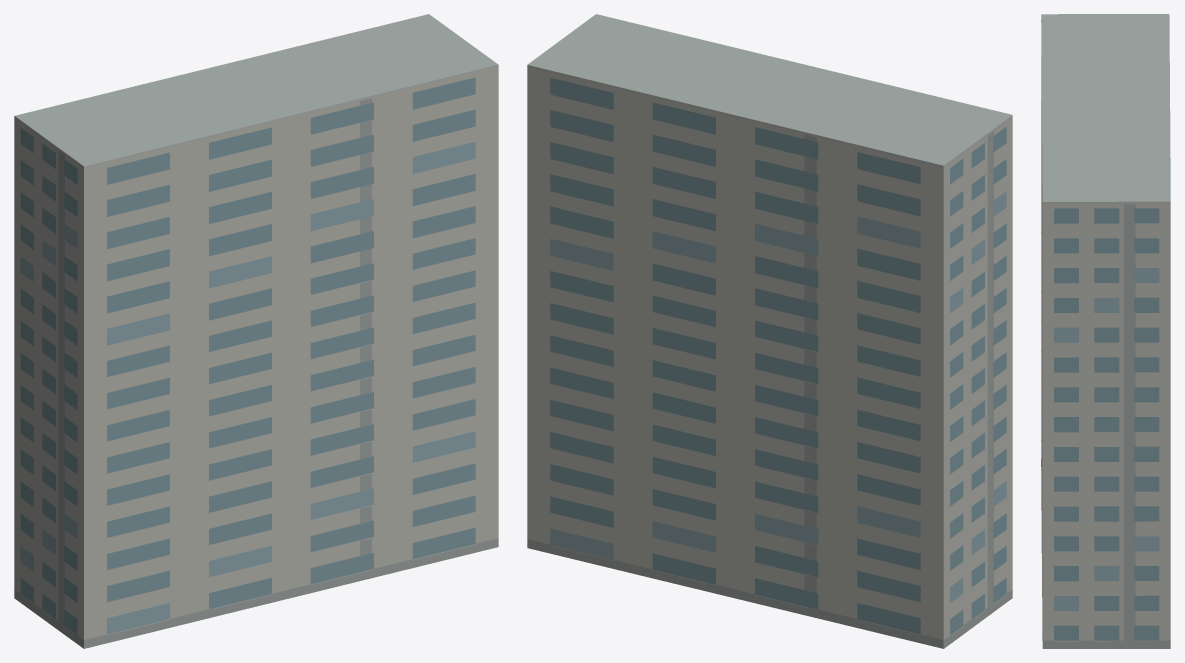
The model's file is residential-253c5b51-452c-4562-9cbe-ef283a8cdf9c.glb.
3 views of the same model, side by side, from view 1: azimuth 30°, elevation 25°; view 2: azimuth 150°, elevation 25°; view 3: azimuth 270°, elevation 25° (orthographic). The views are drawn at different scales.
Parts seen in each view (by area): view 1: residential-253c5b51-452c-4562-9cbe-ef283a8cdf9c.tmp; view 2: residential-253c5b51-452c-4562-9cbe-ef283a8cdf9c.tmp; view 3: residential-253c5b51-452c-4562-9cbe-ef283a8cdf9c.tmp.
Part boxes in pixels (left/top/right/bottom): residential-253c5b51-452c-4562-9cbe-ef283a8cdf9c.tmp: left=14, top=14, right=498, bottom=648; residential-253c5b51-452c-4562-9cbe-ef283a8cdf9c.tmp: left=527, top=14, right=1012, bottom=648; residential-253c5b51-452c-4562-9cbe-ef283a8cdf9c.tmp: left=1041, top=14, right=1170, bottom=648.
Bounding box in the file's own units: 41.26 × 45.75 × 12.04.
